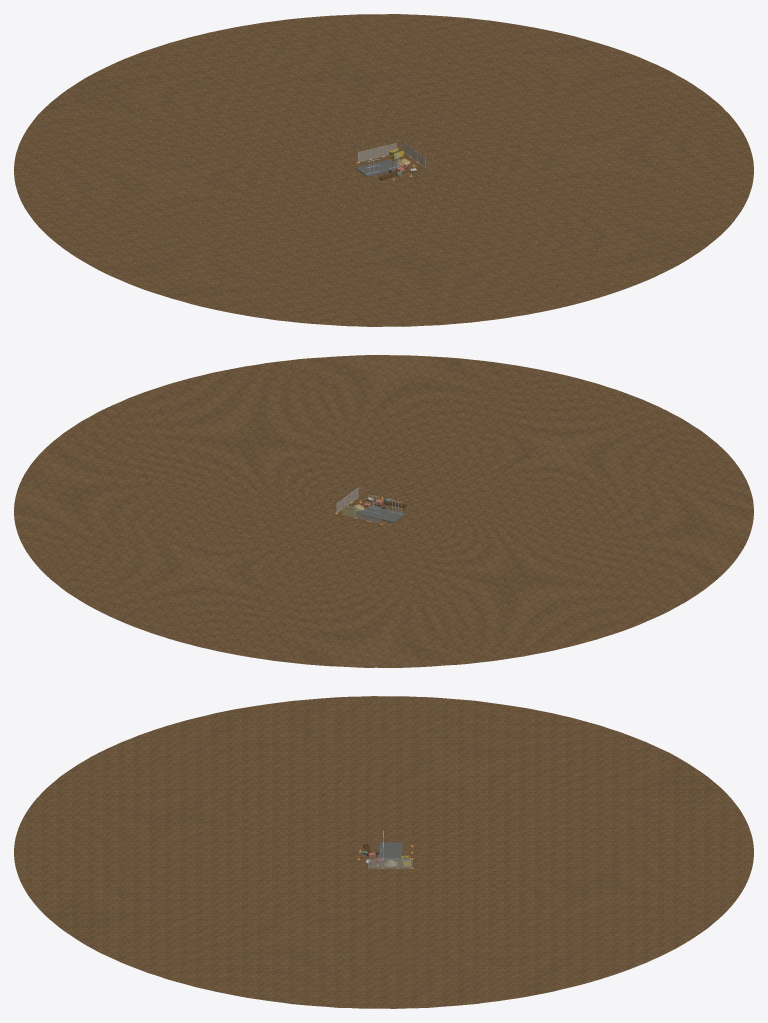
File: site.glb
3 views of the same model, one above another, from view 1: azimuth 30°, elevation 25°; view 2: azimuth 150°, elevation 25°; view 3: azimuth 270°, elevation 25° (orthographic).
Parts seen in each view (by area): view 1: S_ground, S_fence; view 2: S_ground, S_fence; view 3: S_ground.
Part boxes in pixels (bbox=[...]): S_ground: bbox=[14, 14, 753, 326]; S_fence: bbox=[356, 142, 425, 167]; S_ground: bbox=[14, 355, 753, 667]; S_fence: bbox=[335, 487, 383, 525]; S_ground: bbox=[14, 696, 753, 1008].
Size of the model in its own units: 120 by 2.47 by 120.
Materials: 15 (12 with a texture image).
